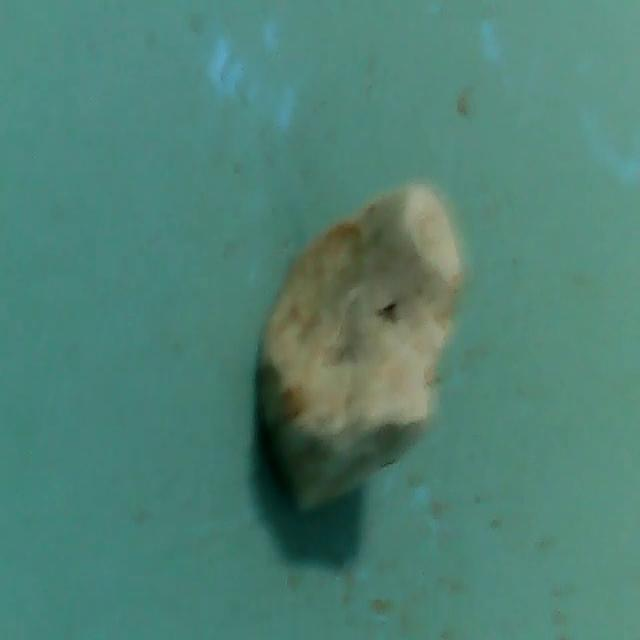rock: (255, 178, 471, 525)
